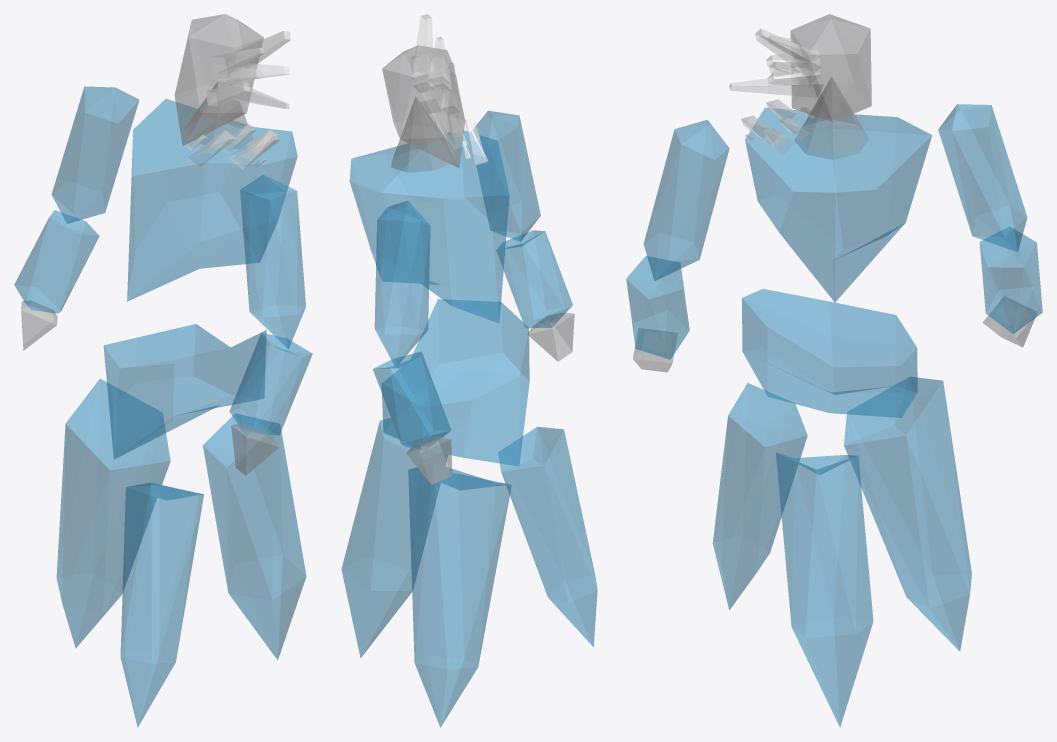
File: ghostChargingLunge18.obj
The picture shows the model from 3 angles, left to right: view 1: azimuth 30°, elevation 25°; view 2: azimuth 150°, elevation 25°; view 3: azimuth 270°, elevation 25°; orthographic projection. The views are drawn at different scales.
Visible parts, largest first — view 1: Cube.001_Cube.006, Icosphere.017, Icosphere.016, Cube_Cube.006, Icosphere.015, Icosphere.005_Icosphere.005, Icosphere.003_Icosphere.006, Icosphere.007_Icosphere.005, Icosphere.006_Icosphere.005, Icosphere.008_Icosphere.005, Cone_Cone.006, Cube.002_Cube.006 (+8 smaller); view 2: Cube.001_Cube.006, Cube_Cube.006, Icosphere.017, Icosphere.016, Icosphere.015, Icosphere.007_Icosphere.005, Icosphere.003_Icosphere.006, Icosphere.005_Icosphere.005, Icosphere.006_Icosphere.005, Icosphere.008_Icosphere.005, Cone_Cone.006, Cube.002_Cube.006 (+6 smaller); view 3: Cube.001_Cube.006, Icosphere.017, Icosphere.016, Cube_Cube.006, Icosphere.015, Icosphere.005_Icosphere.005, Icosphere.007_Icosphere.005, Icosphere.003_Icosphere.006, Icosphere.008_Icosphere.005, Icosphere.006_Icosphere.005, Cone_Cone.006, Cube.003_Cube.006 (+4 smaller).
Boxes of the visible parts, <box> form: Cube.001_Cube.006: <box>127,99,297,301</box>; Icosphere.017: <box>56,378,170,647</box>; Icosphere.016: <box>203,413,306,660</box>; Cube_Cube.006: <box>103,324,266,459</box>; Icosphere.015: <box>120,482,203,727</box>; Icosphere.005_Icosphere.005: <box>240,175,305,349</box>; Icosphere.003_Icosphere.006: <box>174,14,263,145</box>; Icosphere.007_Icosphere.005: <box>51,86,139,223</box>; Icosphere.006_Icosphere.005: <box>229,333,312,435</box>; Icosphere.008_Icosphere.005: <box>14,210,99,313</box>; Cone_Cone.006: <box>184,82,253,148</box>; Cube.002_Cube.006: <box>231,424,278,475</box>; Cube.001_Cube.006: <box>349,130,509,323</box>; Cube_Cube.006: <box>382,299,529,466</box>; Icosphere.017: <box>408,463,511,727</box>; Icosphere.016: <box>341,418,447,657</box>; Icosphere.015: <box>498,427,597,646</box>; Icosphere.007_Icosphere.005: <box>374,200,430,366</box>; Icosphere.003_Icosphere.006: <box>382,45,465,168</box>; Icosphere.005_Icosphere.005: <box>471,110,540,241</box>; Icosphere.006_Icosphere.005: <box>496,230,572,328</box>; Icosphere.008_Icosphere.005: <box>373,351,450,450</box>; Cone_Cone.006: <box>391,97,453,172</box>; Cube.002_Cube.006: <box>528,312,574,361</box>; Cube.001_Cube.006: <box>745,107,931,302</box>; Icosphere.017: <box>844,377,971,651</box>; Icosphere.016: <box>776,452,873,726</box>; Cube_Cube.006: <box>742,289,917,417</box>; Icosphere.015: <box>712,383,807,609</box>; Icosphere.005_Icosphere.005: <box>643,120,729,280</box>; Icosphere.007_Icosphere.005: <box>938,104,1027,251</box>; Icosphere.003_Icosphere.006: <box>790,14,871,122</box>; Icosphere.008_Icosphere.005: <box>979,227,1042,333</box>; Icosphere.006_Icosphere.005: <box>626,256,689,359</box>; Cone_Cone.006: <box>794,76,868,159</box>; Cube.003_Cube.006: <box>983,296,1037,347</box>.
Bounding box in the file's own units: 16.73 × 48.96 × 27.07.
